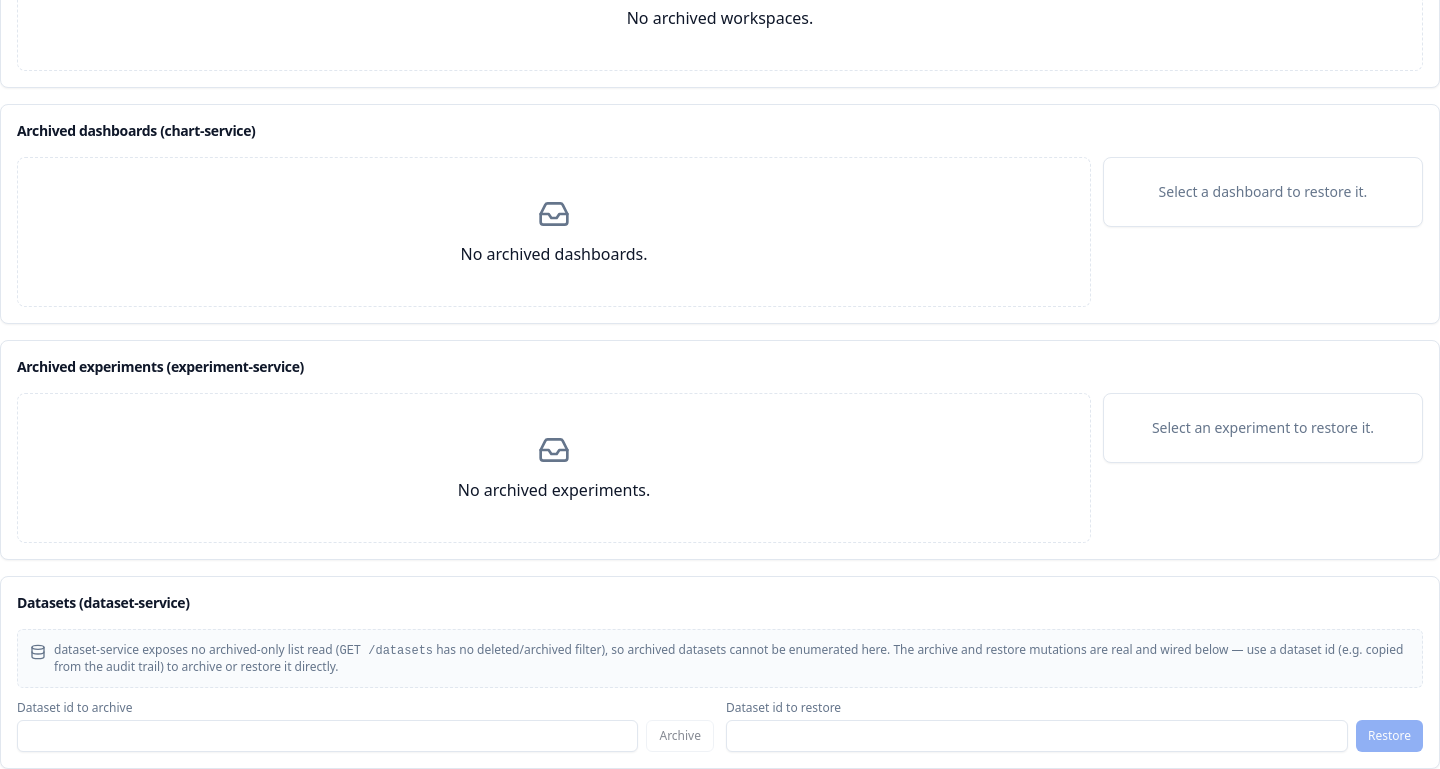
it: Admin Archive page › archives a dataset by id via the honest write-only form
(page scrolled)
Type "ds-42" into the field labelled "Dataset id to archive" at (328, 736), box [17,720,638,752]
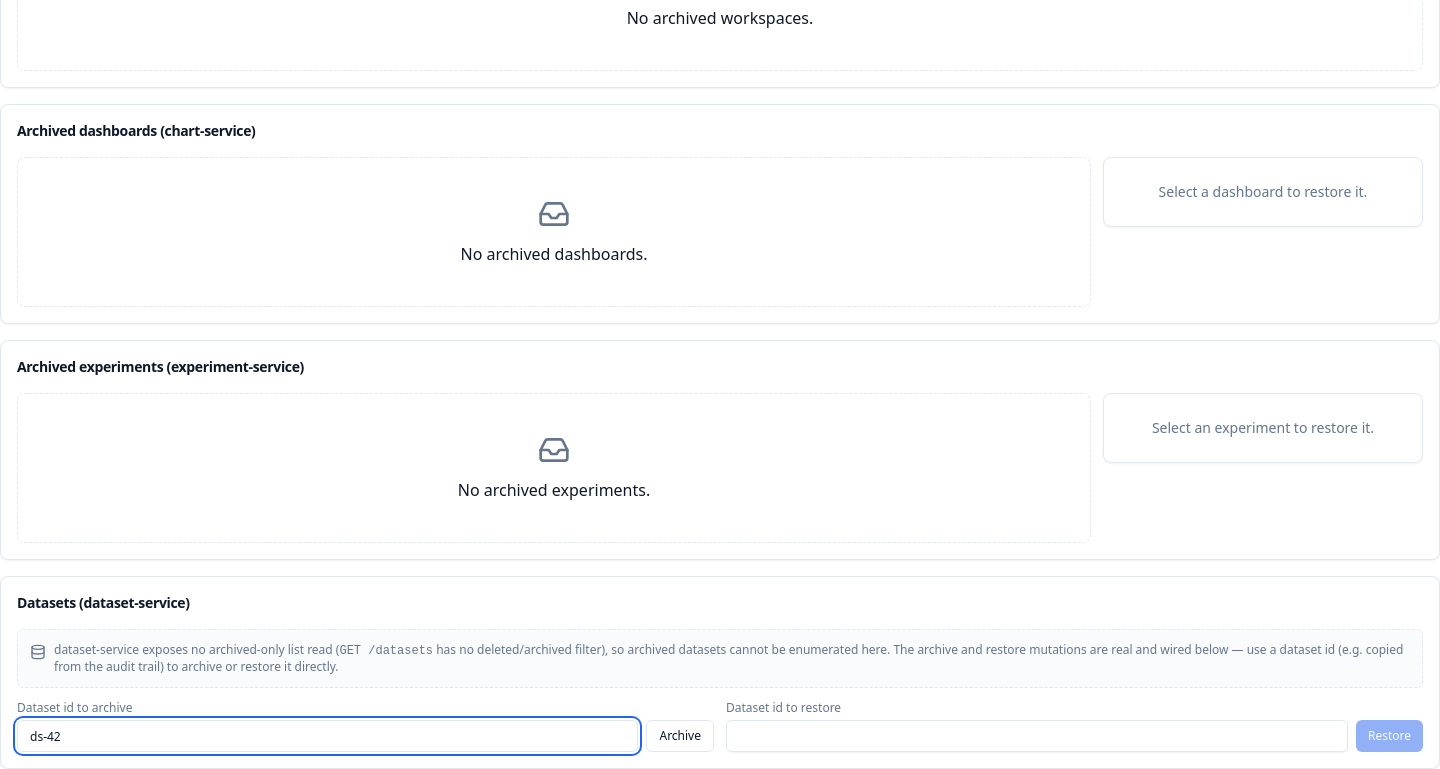
Click the button "Archive" at (680, 736), box [646,720,714,752]
(page scrolled)
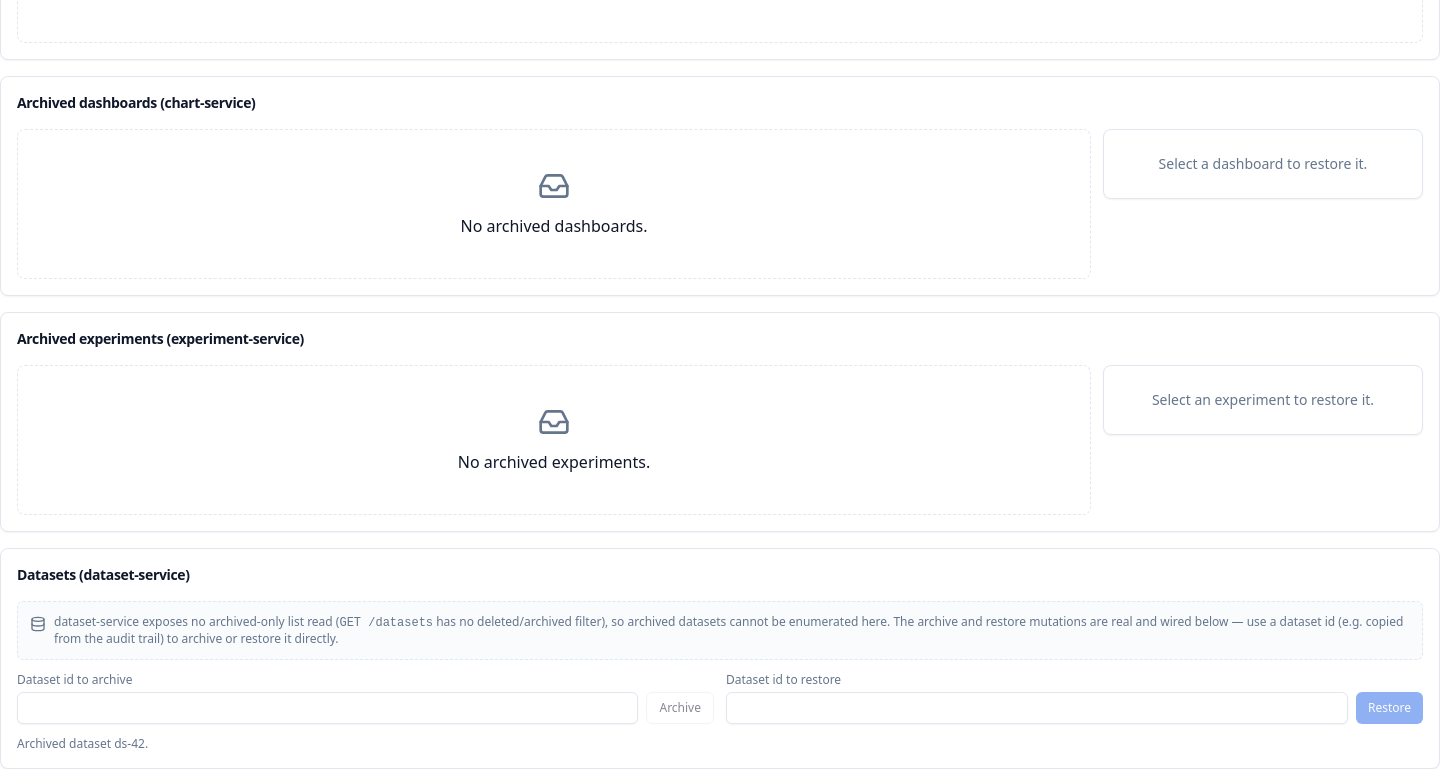
Check: the text "Archived dataset ds-42." is shown, box [17,735,148,752]
